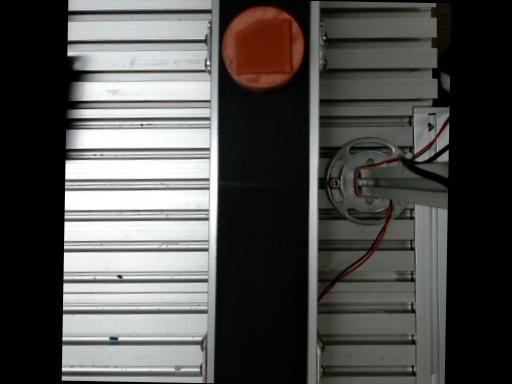Brown_Waper: (222, 7, 303, 91)
Not_Square: (235, 18, 289, 75)
